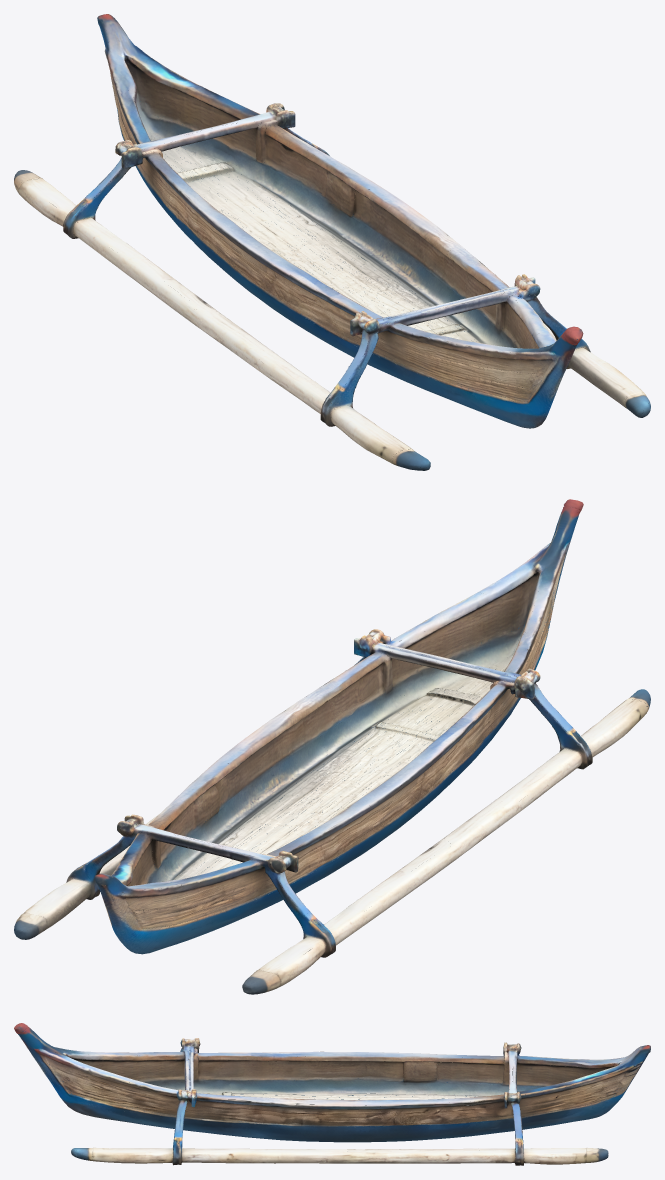
The model's file is opening-boat.glb.
The picture shows the model from 3 angles, top to bottom: view 1: azimuth 30°, elevation 25°; view 2: azimuth 150°, elevation 25°; view 3: azimuth 270°, elevation 25°; orthographic projection. The views are drawn at different scales.
Visible parts, largest first — view 1: Opening boat replacement source; view 2: Opening boat replacement source; view 3: Opening boat replacement source.
Boxes of the visible parts, left/top/right/bottom form: Opening boat replacement source: left=14, top=14, right=650, bottom=470; Opening boat replacement source: left=14, top=499, right=650, bottom=994; Opening boat replacement source: left=14, top=1023, right=650, bottom=1165.
Size of the model in its own units: 0.6077 by 0.3329 by 1.9.
Materials: 1 (1 with a texture image).
